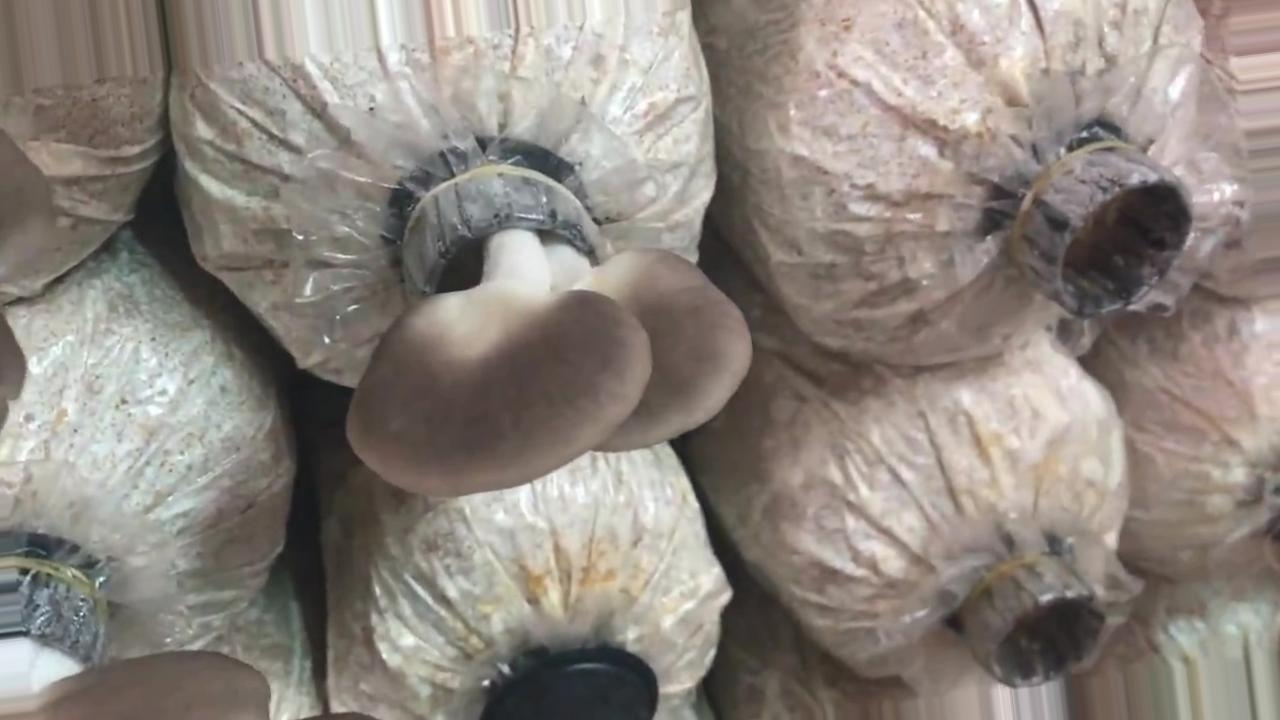nam: (348, 156, 753, 498)
